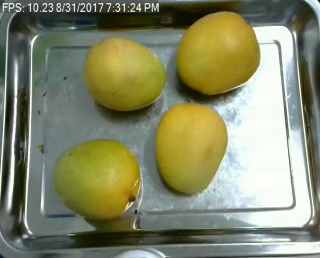Mango: (176, 12, 260, 95), (55, 139, 139, 221), (155, 102, 226, 193), (85, 37, 165, 112)
